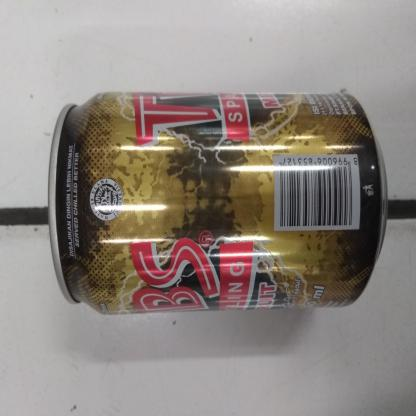bottle: (45, 81, 393, 323)
